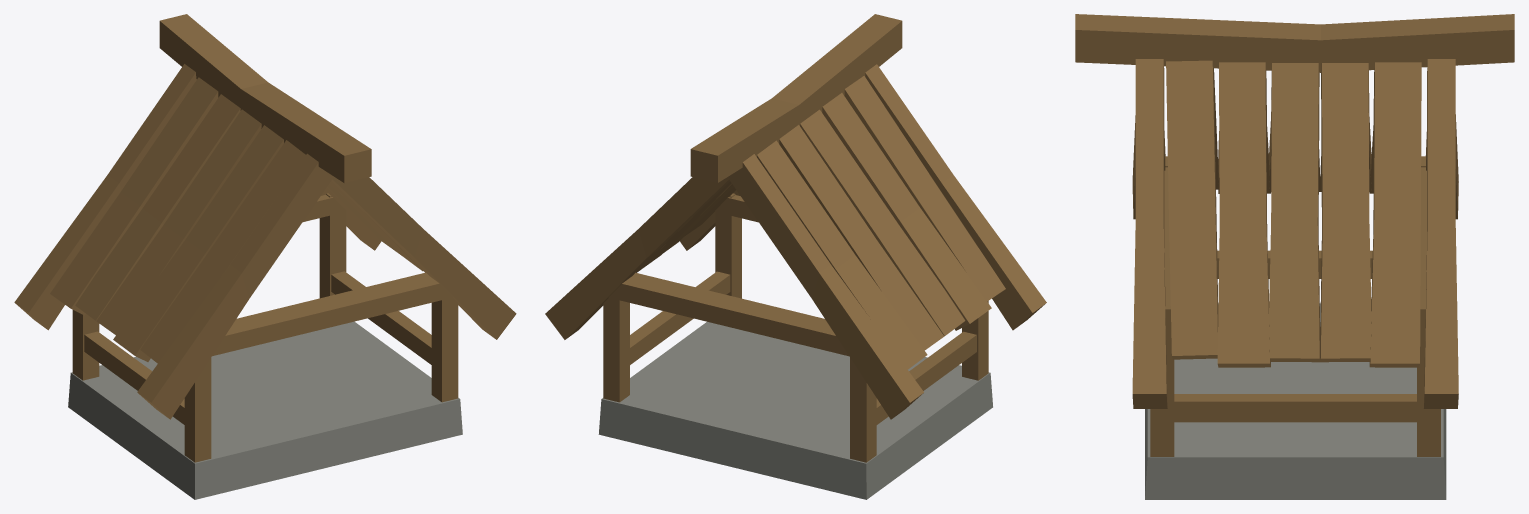
Rendered from house.glb.
3 views of the same model, side by side, from view 1: azimuth 30°, elevation 25°; view 2: azimuth 150°, elevation 25°; view 3: azimuth 270°, elevation 25° (orthographic). The views are drawn at different scales.
Parts seen in each view (by area): view 1: Houses_FirstAge_1_Level1; view 2: Houses_FirstAge_1_Level1; view 3: Houses_FirstAge_1_Level1.
Boxes of the visible parts, box(x1,y1,x2,y2) form: Houses_FirstAge_1_Level1: box(14, 14, 516, 499); Houses_FirstAge_1_Level1: box(545, 14, 1046, 499); Houses_FirstAge_1_Level1: box(1075, 14, 1514, 499).
Size of the model in its own units: 0.8693 by 0.7645 by 0.7614.
